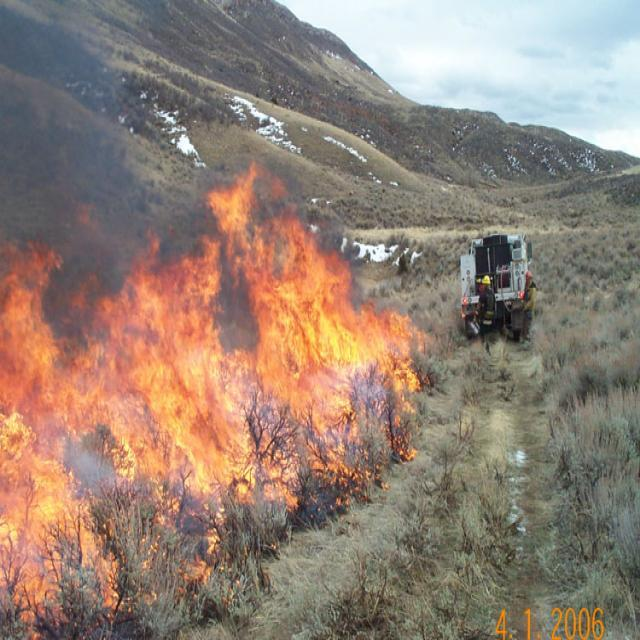Fire: (0, 153, 442, 636)
Smoke: (0, 0, 142, 329)
